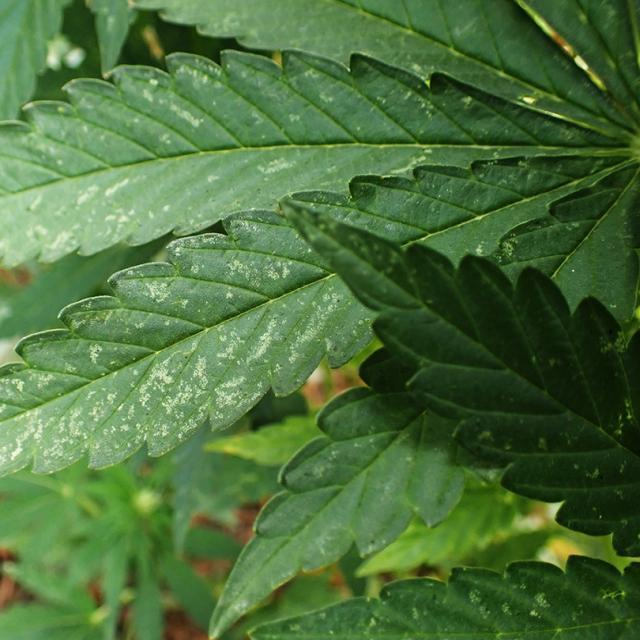Thrips: (17, 70, 416, 510)
